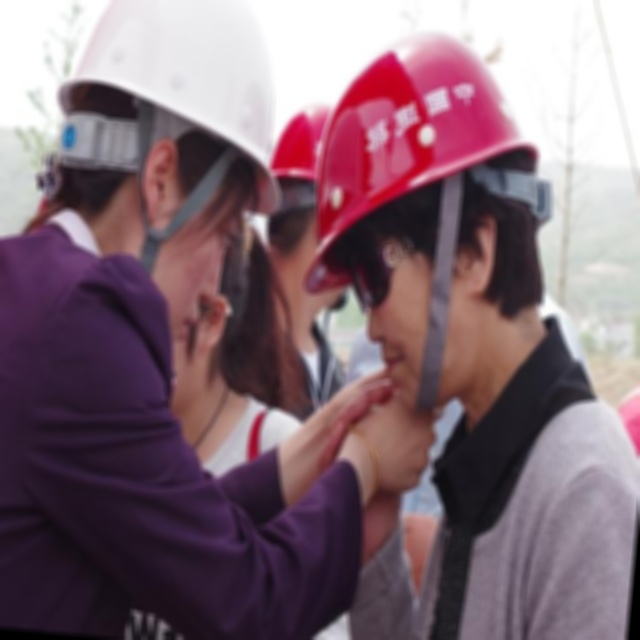Con_Casco: (295, 21, 569, 416), (40, 0, 302, 296)
